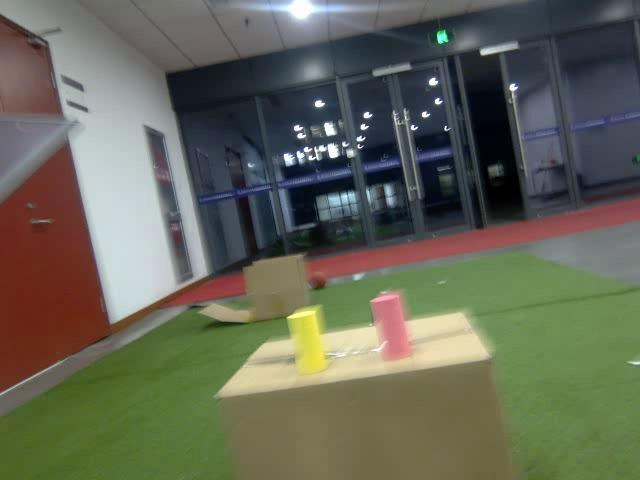red_cylinder: (366, 290, 415, 361)
yellow_cylinder: (287, 309, 328, 377)
